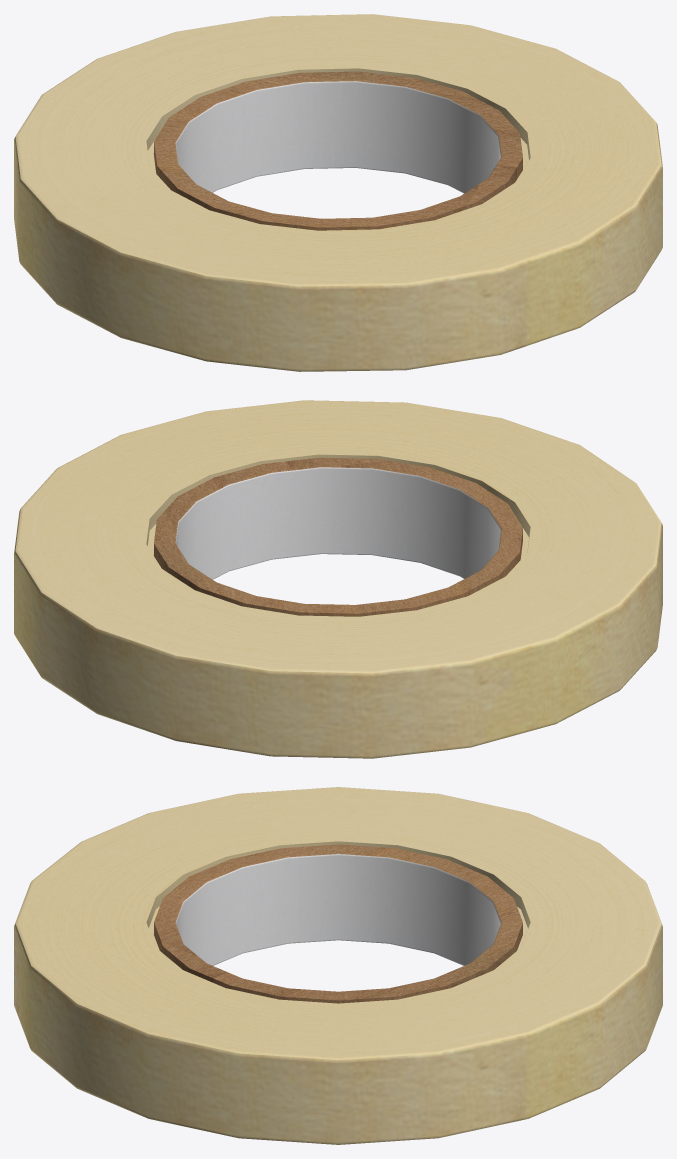
The model's file is Tape_Roll_Model_01.fbx.
3 renders of one model, top to bottom at view 1: azimuth 30°, elevation 25°; view 2: azimuth 150°, elevation 25°; view 3: azimuth 270°, elevation 25°, orthographic.
Parts seen in each view (by area): view 1: pCylinder2; view 2: pCylinder2; view 3: pCylinder2.
Part boxes in pixels (<box>): pCylinder2: <box>14,14,662,371</box>; pCylinder2: <box>14,400,662,758</box>; pCylinder2: <box>14,787,662,1144</box>.
Bounding box in the file's own units: 2 × 0.2973 × 2.
